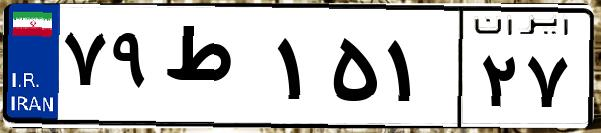1: (270, 28, 330, 110), (385, 28, 445, 110)
2: (475, 38, 525, 113)
5: (330, 28, 385, 110)
7: (57, 26, 110, 100), (525, 38, 570, 115)
9: (110, 28, 158, 98)
ط: (158, 20, 270, 120)
